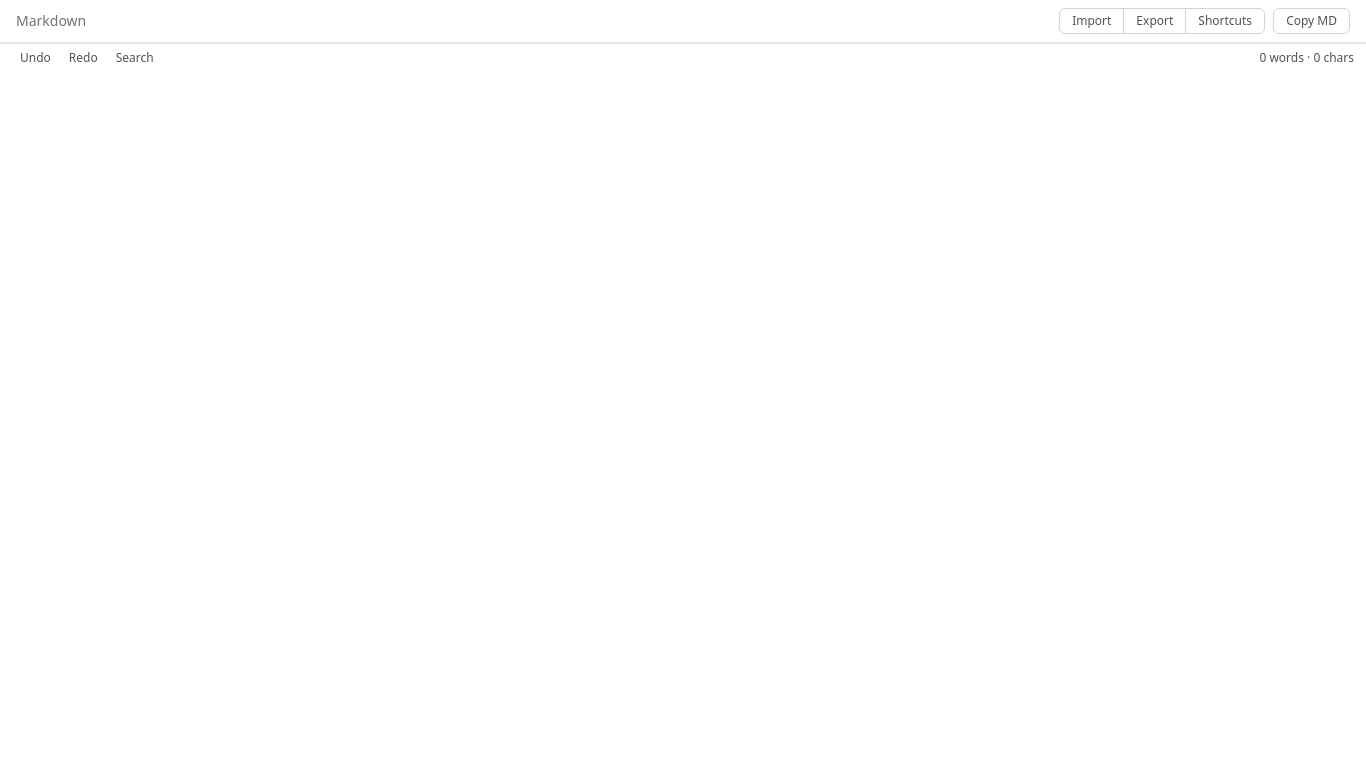
Test: MarkdownInput — panel structure › closes shortcuts modal when its close button is clicked
Click the button with aria-label "Keyboard shortcuts" at (1225, 21), box [1185,9,1264,33]
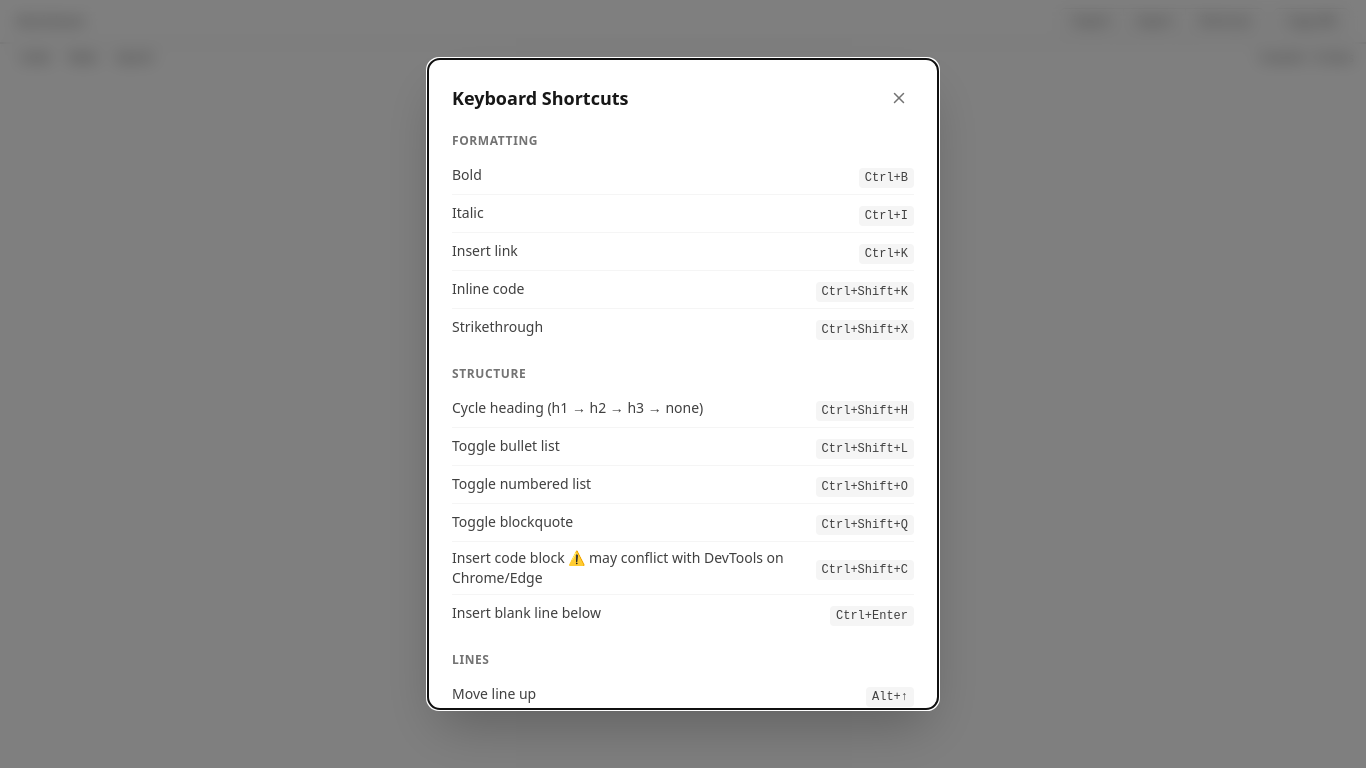
expect the dialog is shown: met
Click the button named "Close shortcuts panel" at (899, 98), box [884,83,914,113]
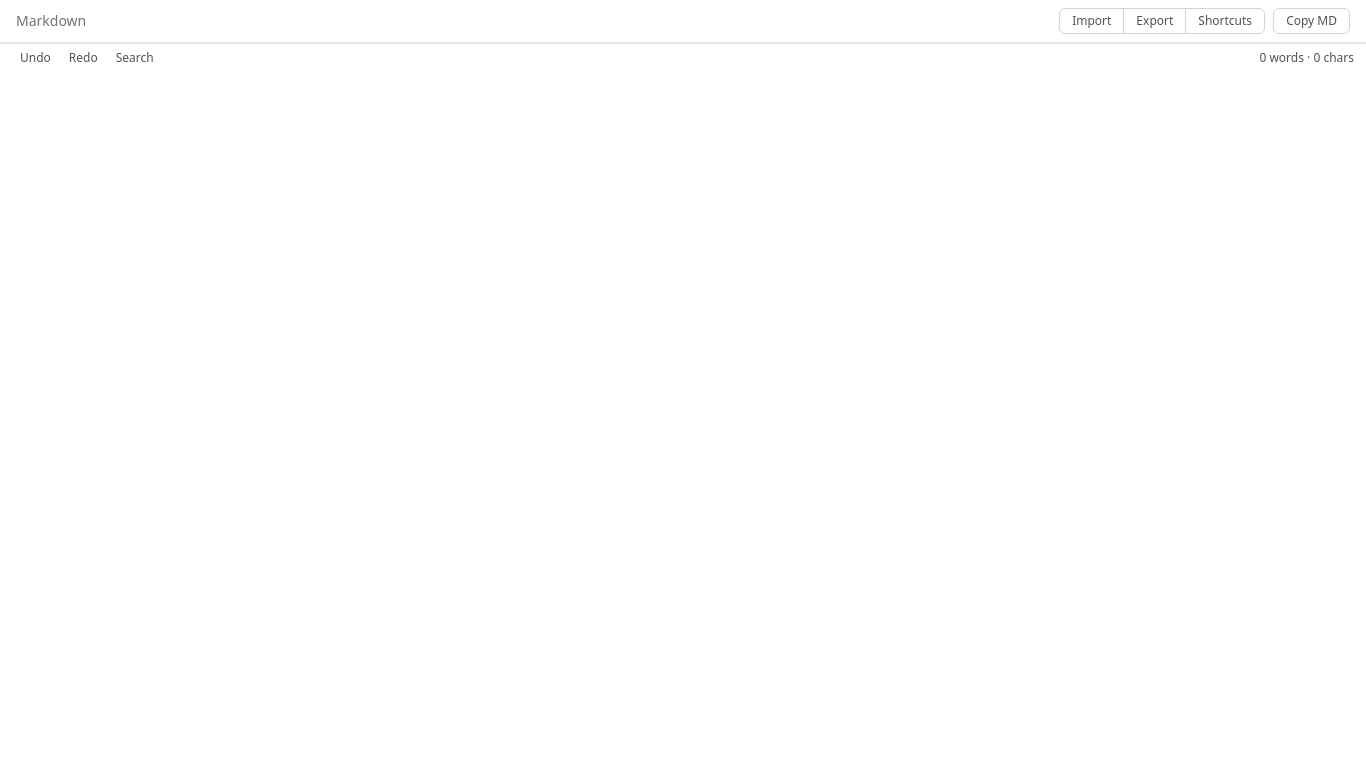
expect the dialog is gone: met
